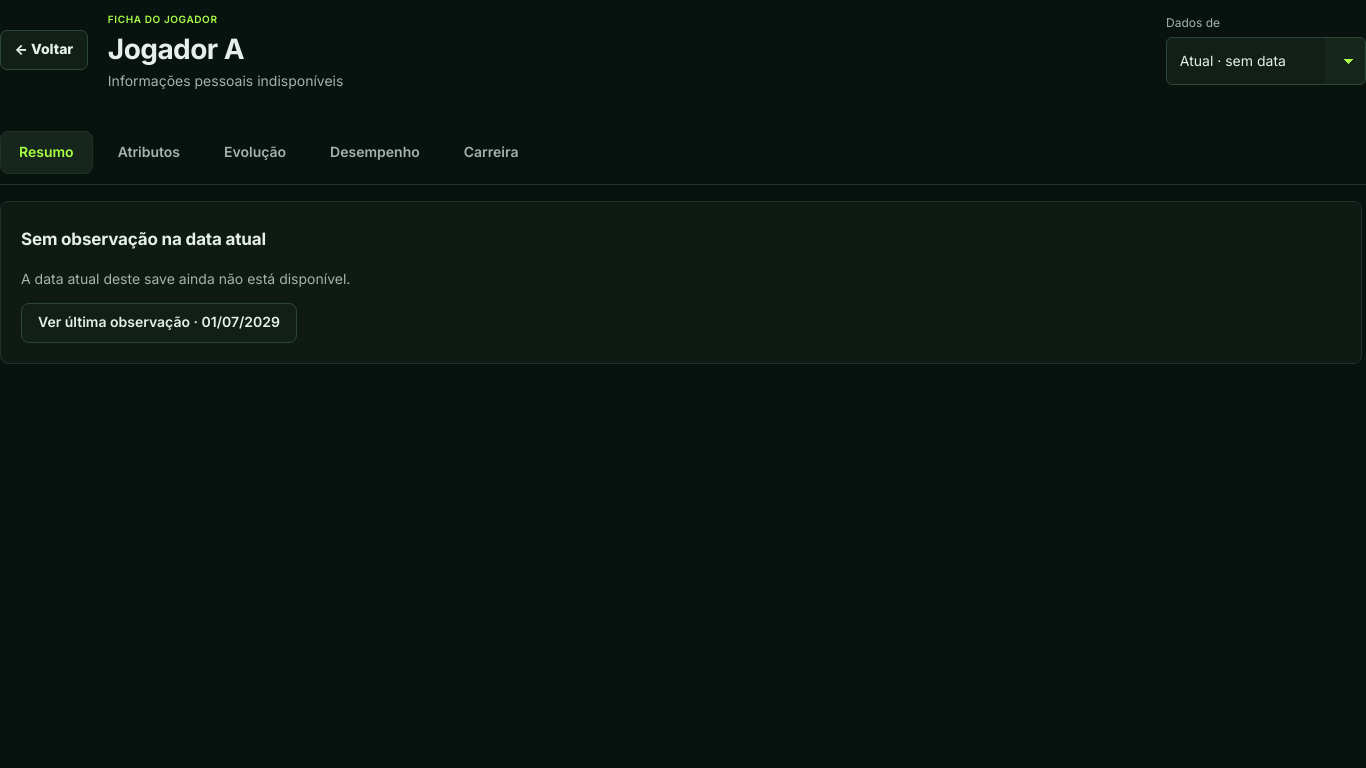
Test: PlayerPage save isolation › mantém a ficha utilizável quando o contexto longitudinal falha
Check: the heading "Jogador A" is shown, box [108,32,244,66]
What coordinates should you click on to do the following:
click the button "Evolução"
I would click on:
 (255, 152)
Its box is [205,131,305,174].
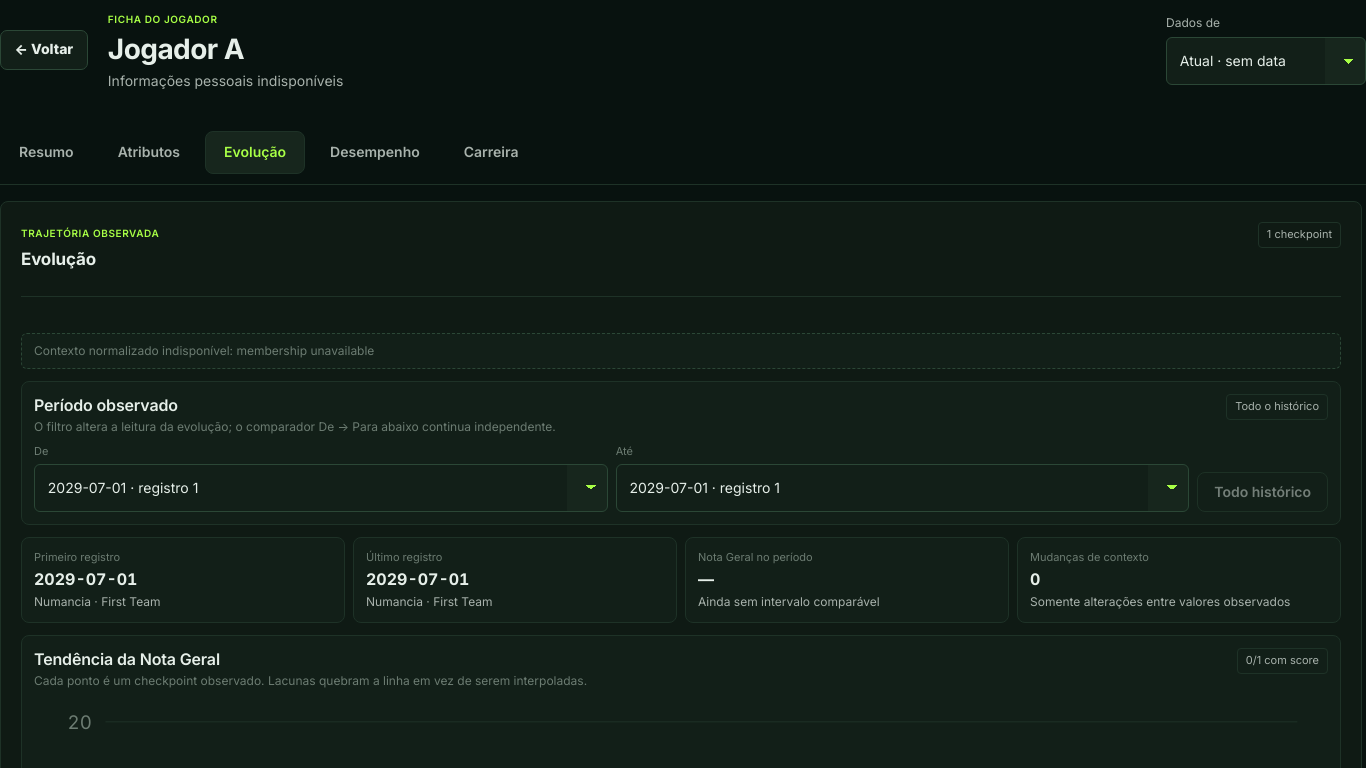
Check: the heading "Jogador A" is shown, box [108,32,244,66]
Check: the text "Contexto normalizado indisponível: membership unavailable" is shown, box [21,333,1341,369]
